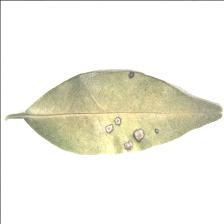canker: (92, 57, 166, 157)
